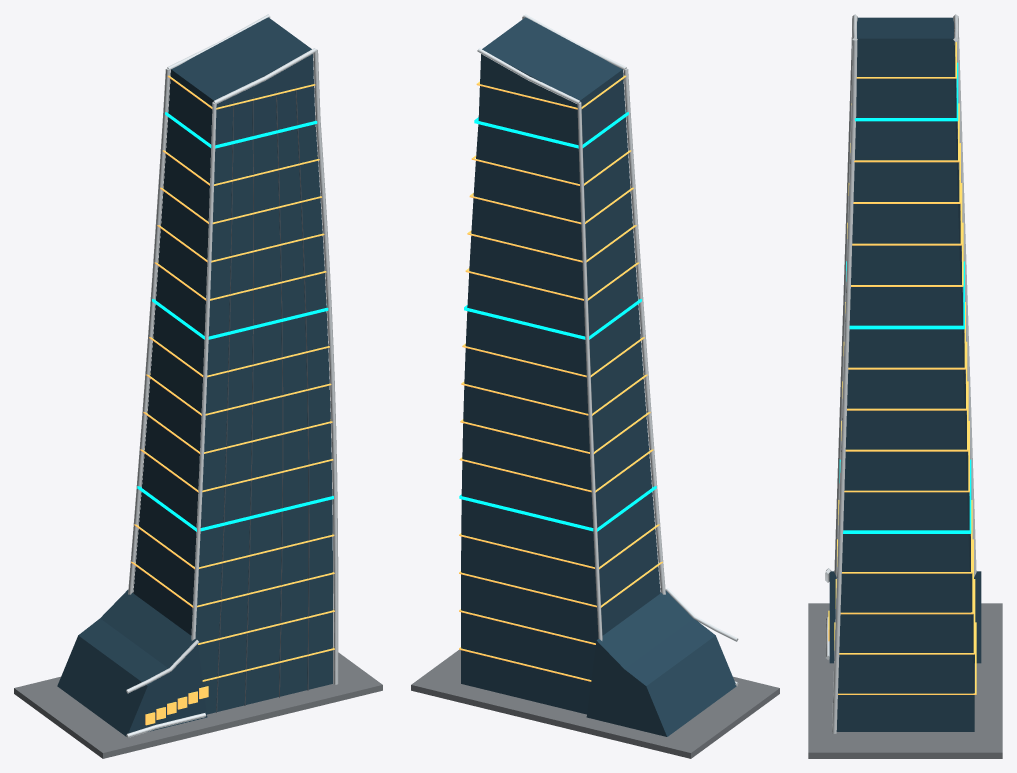
File: Model_ Stage 07 .glb
3 renders of one model, left to right at view 1: azimuth 30°, elevation 25°; view 2: azimuth 150°, elevation 25°; view 3: azimuth 270°, elevation 25°, orthographic. The views are drawn at different scales.
Parts seen in each view (by area): view 1: SailTowerGlassShell.003, SweepingPodiumGlass.004, SignatureWhiteTowerRibbon.003, SailFoundation.006, SailWarmFloorBands.003, FacadeMullions.003, SailSkyLobbyBands.003, PodiumWhiteRibbon.004, PodiumWindows.004; view 2: SailTowerGlassShell.003, SweepingPodiumGlass.004, SailFoundation.006, SignatureWhiteTowerRibbon.003, SailWarmFloorBands.003, SailSkyLobbyBands.003; view 3: SailTowerGlassShell.003, SailFoundation.006, SignatureWhiteTowerRibbon.003, SailWarmFloorBands.003, SailSkyLobbyBands.003, SweepingPodiumGlass.004.
Boxes of the visible parts, left/top/right/bottom form: SailTowerGlassShell.003: left=133, top=17, right=332, bottom=714; SweepingPodiumGlass.004: left=57, top=590, right=207, bottom=736; SignatureWhiteTowerRibbon.003: left=128, top=14, right=338, bottom=684; SailFoundation.006: left=14, top=650, right=382, bottom=758; SailWarmFloorBands.003: left=131, top=75, right=334, bottom=681; FacadeMullions.003: left=216, top=86, right=309, bottom=712; SailSkyLobbyBands.003: left=137, top=110, right=333, bottom=531; PodiumWhiteRibbon.004: left=126, top=640, right=206, bottom=737; PodiumWindows.004: left=145, top=686, right=208, bottom=725; SailTowerGlassShell.003: left=461, top=17, right=660, bottom=714; SweepingPodiumGlass.004: left=586, top=590, right=736, bottom=736; SailFoundation.006: left=411, top=649, right=779, bottom=758; SignatureWhiteTowerRibbon.003: left=477, top=14, right=665, bottom=640; SailWarmFloorBands.003: left=459, top=75, right=662, bottom=681; SailSkyLobbyBands.003: left=459, top=110, right=656, bottom=531; SailTowerGlassShell.003: left=836, top=17, right=974, bottom=731; SailFoundation.006: left=808, top=603, right=1002, bottom=758; SignatureWhiteTowerRibbon.003: left=832, top=14, right=976, bottom=733; SailWarmFloorBands.003: left=834, top=42, right=976, bottom=694; SailSkyLobbyBands.003: left=839, top=62, right=971, bottom=533; SweepingPodiumGlass.004: left=829, top=571, right=981, bottom=663.
Size of the model in its own units: 20 by 43.6 by 11.
